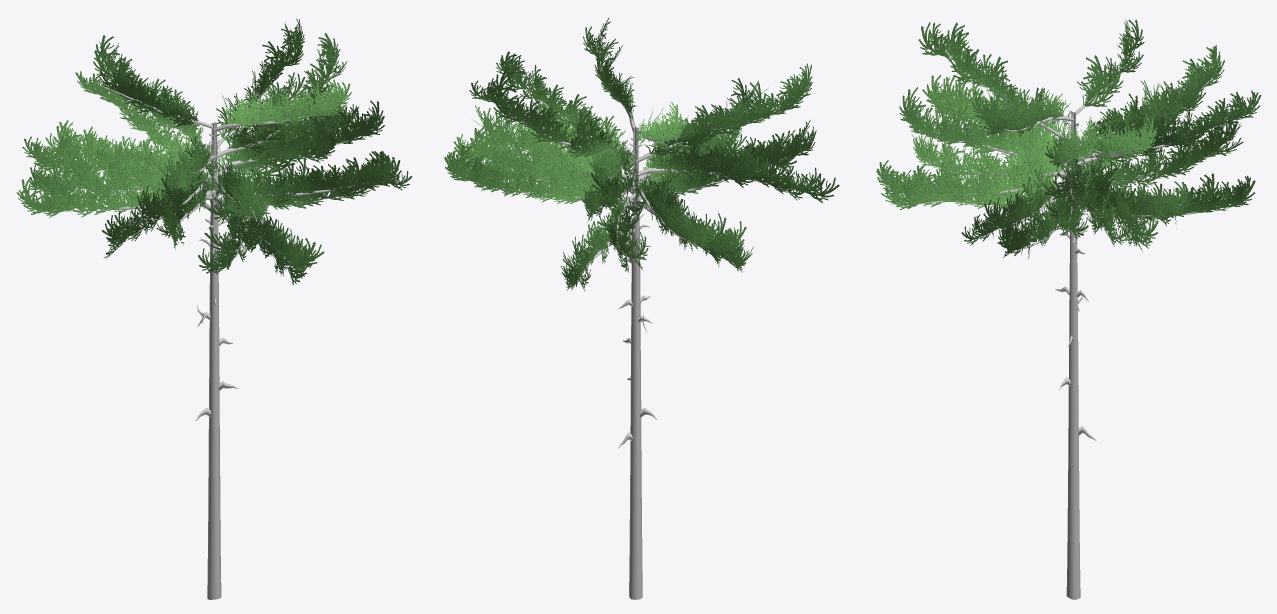
File: araucaria.fbx
3 views of the same model, side by side, from view 1: azimuth 30°, elevation 25°; view 2: azimuth 150°, elevation 25°; view 3: azimuth 270°, elevation 25° (orthographic). The views are drawn at different scales.
Parts seen in each view (by area): view 1: Leaves_1, TrunkAndBranches_1; view 2: Leaves_1, TrunkAndBranches_1; view 3: Leaves_1, TrunkAndBranches_1.
Boxes of the visible parts, x1,y1,x2,y2 form: Leaves_1: (16, 18, 412, 285); TrunkAndBranches_1: (53, 79, 383, 599); Leaves_1: (444, 18, 839, 291); TrunkAndBranches_1: (474, 64, 794, 599); Leaves_1: (876, 19, 1261, 258); TrunkAndBranches_1: (919, 33, 1230, 599).
Size of the model in its own units: 3660 by 5676 by 3656.
